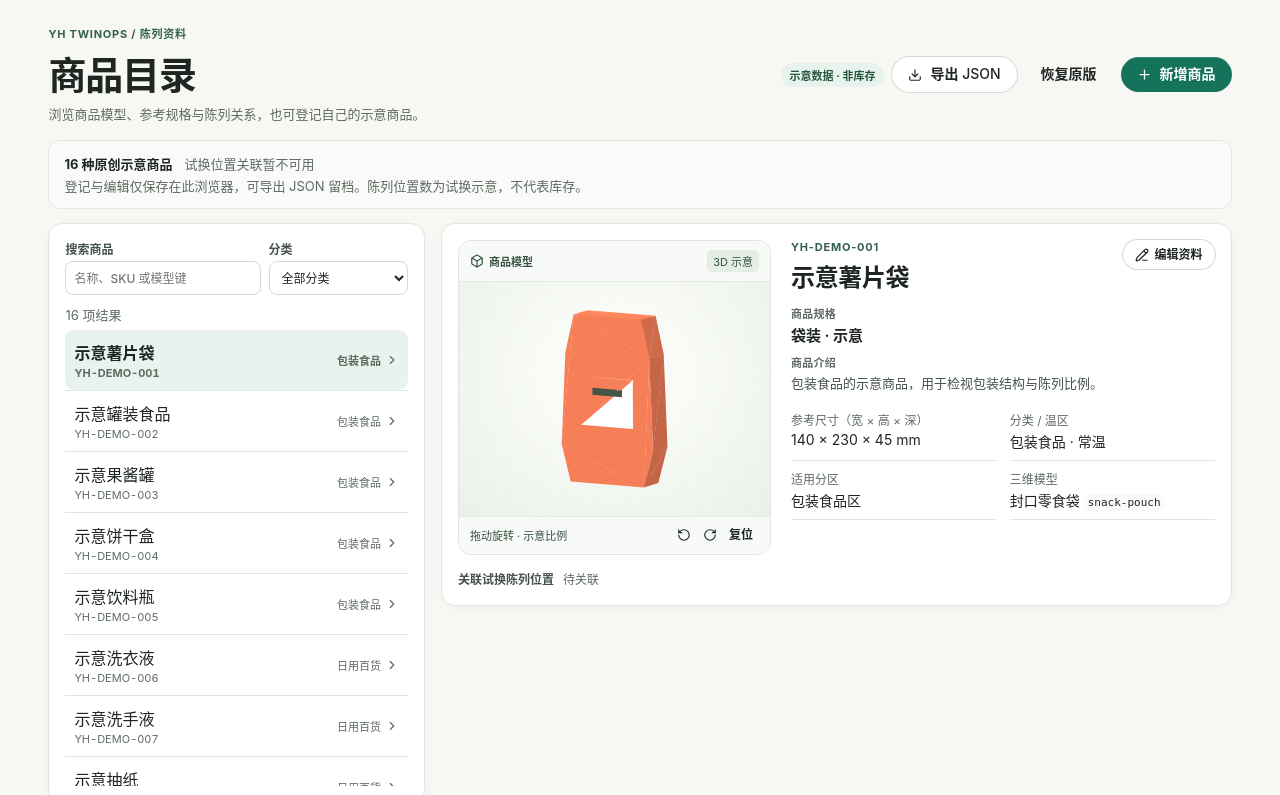
Test: does not claim a save when browser storage rejects it
Click the button "编辑资料": [1169, 255] box [1123, 240, 1215, 269]
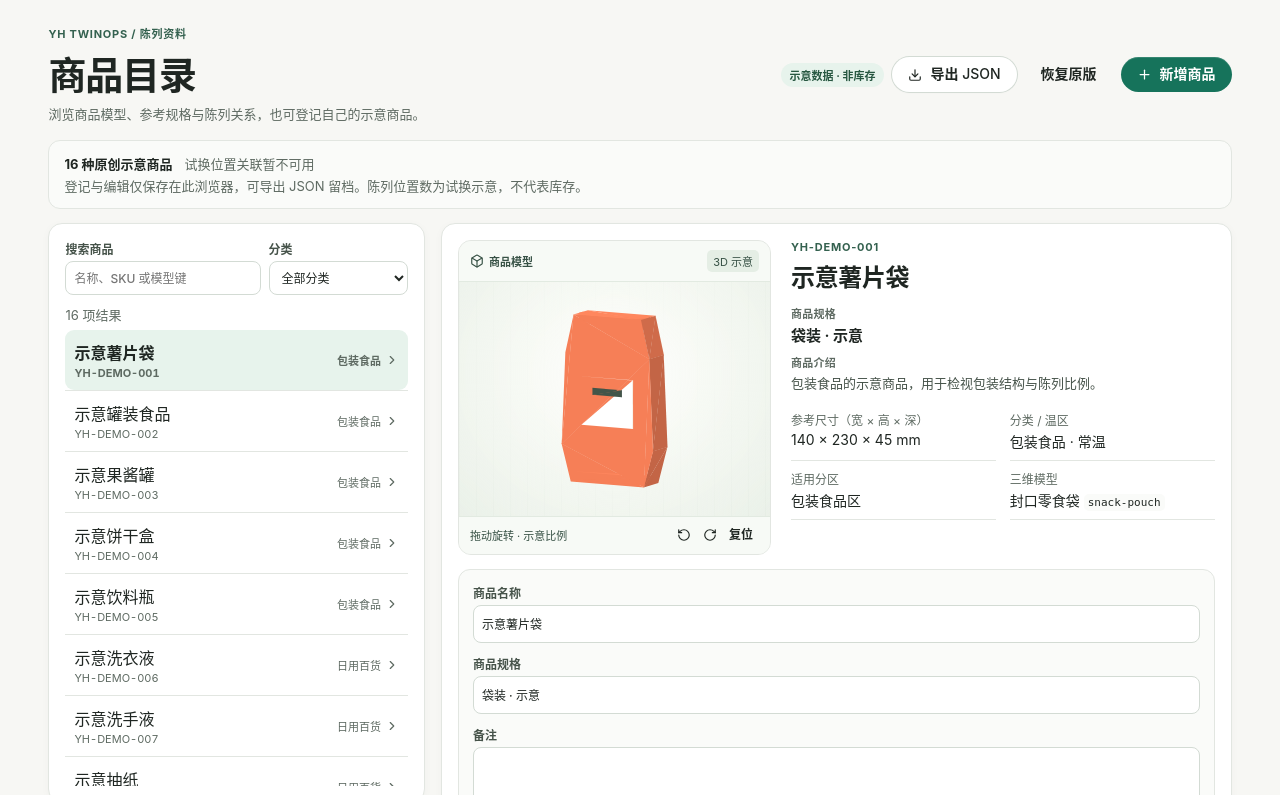
Replace the text in the field labelled "商品名称" with "不会保存": [836, 624] box [473, 605, 1200, 643]
(page scrolled)
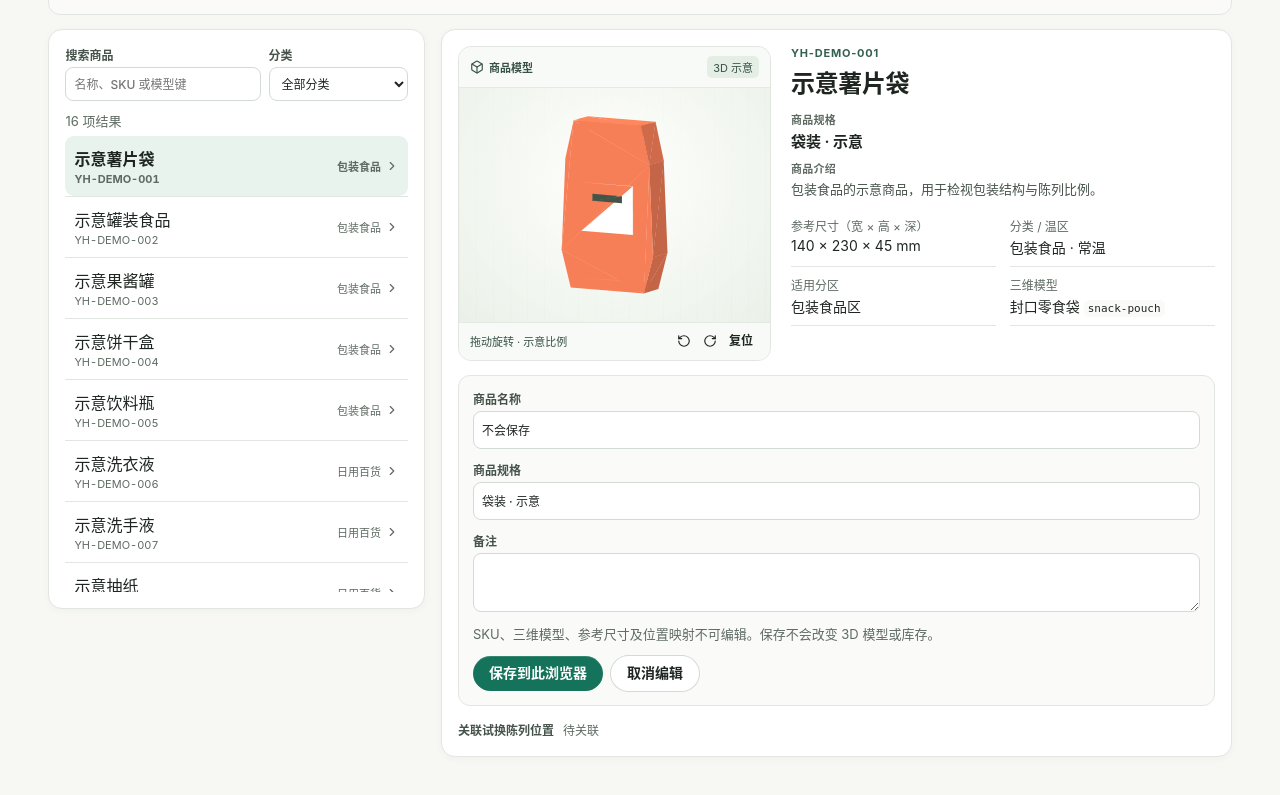
Click the button "保存到此浏览器": [538, 673] box [473, 656, 603, 690]
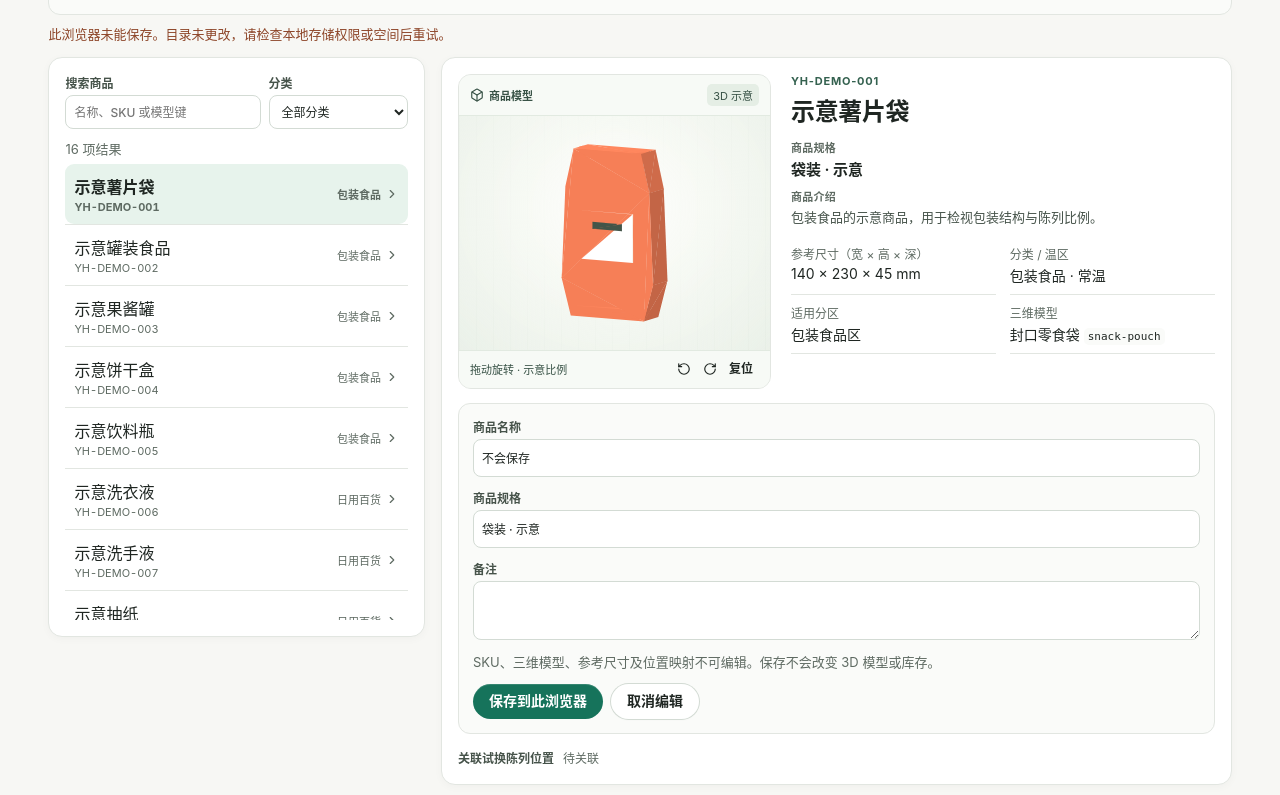
expect the heading "示意薯片袋" is shown: met, box [791, 92, 909, 127]
expect the message shows "未能保存": met, box [48, 26, 451, 42]
